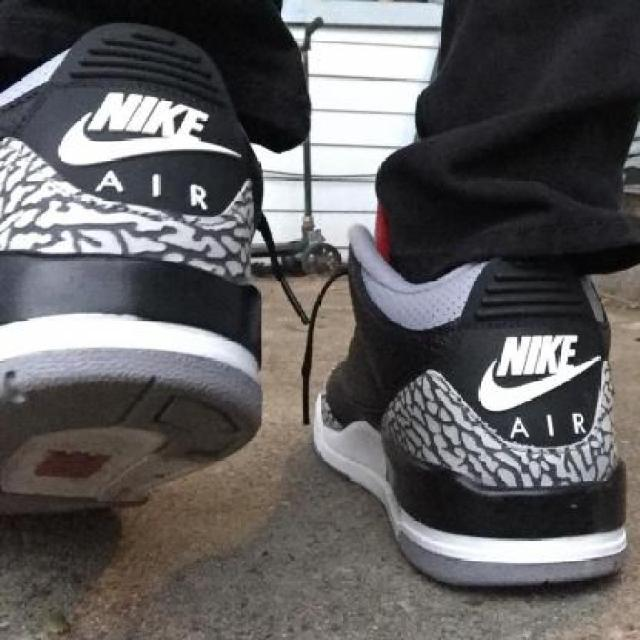shoe: (0, 21, 268, 522), (312, 227, 630, 588)
